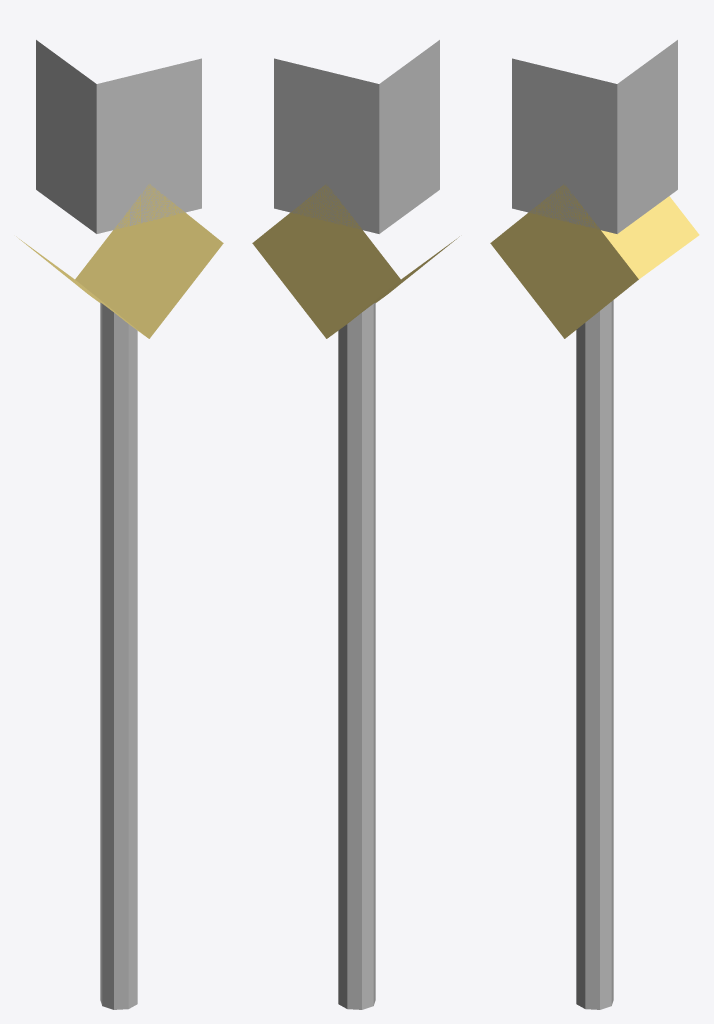
The model's file is keeper-of-the-light.glb.
The picture shows the model from 3 angles, left to right: view 1: azimuth 30°, elevation 25°; view 2: azimuth 150°, elevation 25°; view 3: azimuth 330°, elevation 25°; orthographic projection.
Parts seen in each view (by area): view 1: keeper-of-the-light-shaft, keeper-of-the-light-cage, keeper-of-the-light-head-gem; view 2: keeper-of-the-light-shaft, keeper-of-the-light-cage, keeper-of-the-light-head-gem; view 3: keeper-of-the-light-shaft, keeper-of-the-light-cage, keeper-of-the-light-head-gem.
Boxes of the visible parts, x1,y1,x2,y2 form: keeper-of-the-light-shaft: (100, 302, 137, 1009); keeper-of-the-light-cage: (36, 40, 201, 233); keeper-of-the-light-head-gem: (16, 184, 223, 338); keeper-of-the-light-shaft: (338, 302, 375, 1009); keeper-of-the-light-cage: (274, 40, 439, 233); keeper-of-the-light-head-gem: (252, 184, 459, 338); keeper-of-the-light-shaft: (576, 300, 613, 1009); keeper-of-the-light-cage: (512, 40, 677, 233); keeper-of-the-light-head-gem: (490, 184, 699, 338).
Size of the model in its own units: 0.3111 by 1.91 by 0.22.
